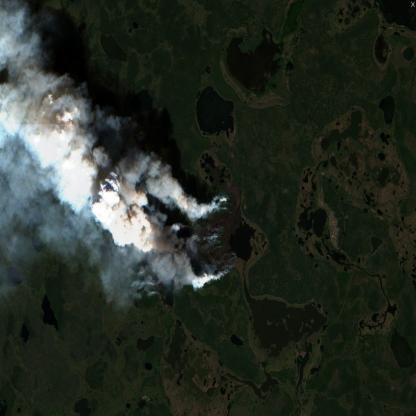fire: (128, 181, 244, 295)
